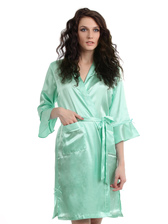clothoes: (32, 53, 140, 222)
